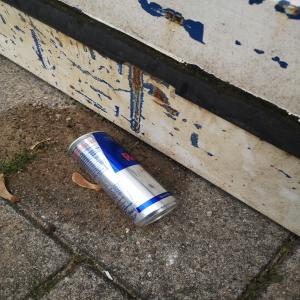Can: (63, 128, 184, 233)
